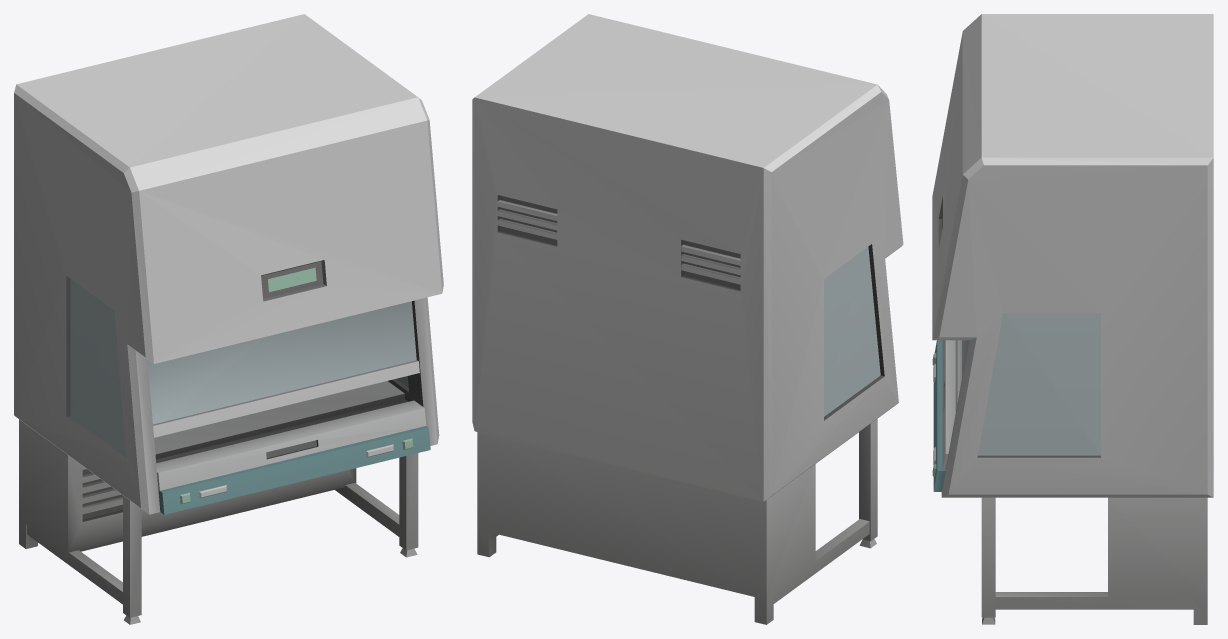
The model's file is bsc.glb.
3 views of the same model, side by side, from view 1: azimuth 30°, elevation 25°; view 2: azimuth 150°, elevation 25°; view 3: azimuth 270°, elevation 25° (orthographic). The views are drawn at different scales.
Parts seen in each view (by area): view 1: bsc; view 2: bsc; view 3: bsc.
Part boxes in pixels (x1=…): bsc: x1=14, y1=14, x2=443, y2=624; bsc: x1=472, y1=14, x2=903, y2=624; bsc: x1=932, y1=14, x2=1213, y2=624.
Size of the model in its own units: 1.5 by 2.2 by 1.2.
